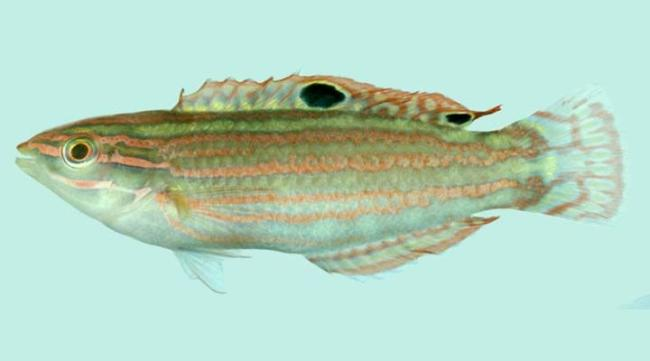fish: (14, 69, 626, 296)
